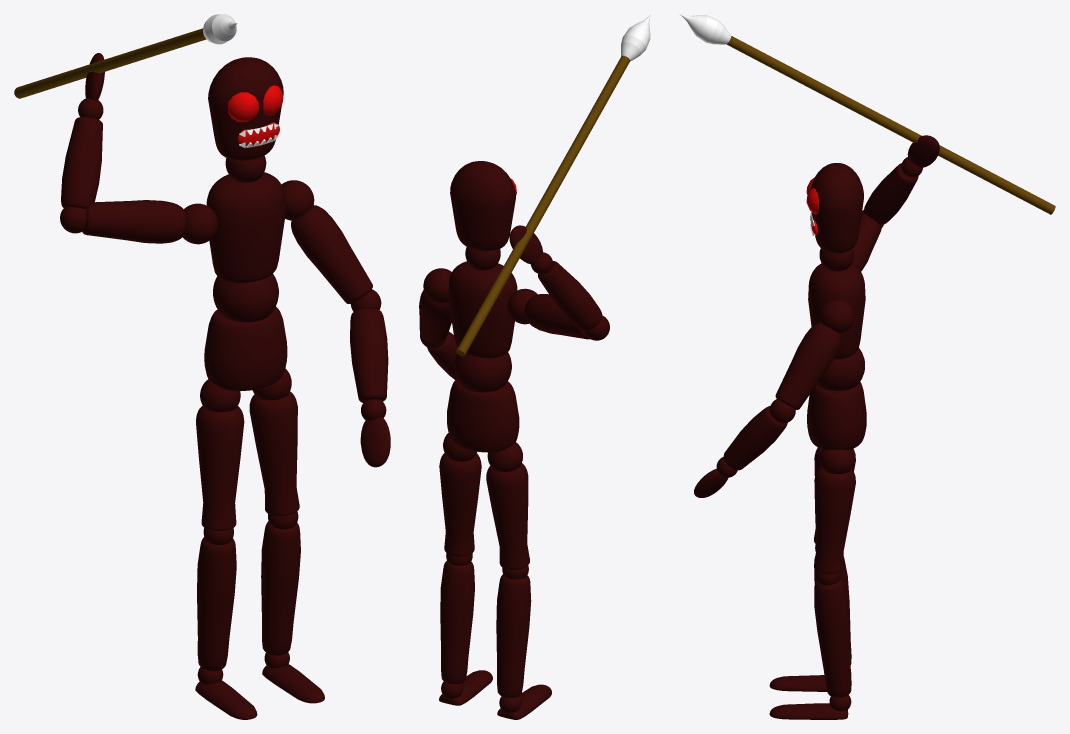
Rendered from orc.fbx.
3 renders of one model, left to right at view 1: azimuth 30°, elevation 25°; view 2: azimuth 150°, elevation 25°; view 3: azimuth 270°, elevation 25°, orthographic. The views are drawn at different scales.
Visible parts, largest first — view 1: Upper_Body, Pelvis, Right_Thigh, LeftThigh, Head, Right_Shin, LeftShin, LeftUpper_Arm, Right_Upper_Arm, LeftLower_Arm, Right_Lower_Arm, Joint (+12 smaller); view 2: Head, Upper_Body, Pelvis, LeftShin, Right_Shin, Cylinder, Right_Thigh, LeftThigh, Right_Lower_Arm, Joint, Right_Upper_Arm, LeftUpper_Arm (+10 smaller); view 3: Head, Cylinder, LeftThigh, LeftShin, Pelvis, Upper_Body, LeftUpper_Arm, LeftLower_Arm, Right_Lower_Arm, Joint, LeftFoot, Lathe (+7 smaller).
Boxes of the visible parts, x1,y1,x2,y2 form: Upper_Body: [206, 172, 285, 283]; Pelvis: [204, 306, 287, 390]; Right_Thigh: [196, 405, 244, 530]; LeftThigh: [249, 391, 299, 516]; Head: [208, 57, 283, 160]; Right_Shin: [197, 537, 236, 671]; LeftShin: [261, 521, 300, 655]; LeftUpper_Arm: [291, 205, 372, 303]; Right_Upper_Arm: [82, 200, 185, 243]; LeftLower_Arm: [350, 308, 388, 402]; Right_Lower_Arm: [61, 117, 102, 209]; Joint: [213, 274, 278, 322]; Head: [450, 161, 515, 251]; Upper_Body: [448, 261, 517, 358]; Pelvis: [447, 379, 519, 452]; LeftShin: [440, 561, 474, 684]; Right_Shin: [496, 574, 531, 697]; Cylinder: [456, 55, 630, 356]; Right_Thigh: [486, 463, 529, 569]; LeftThigh: [439, 453, 481, 556]; Right_Lower_Arm: [538, 261, 602, 330]; Joint: [454, 352, 511, 392]; Right_Upper_Arm: [524, 294, 589, 339]; LeftUpper_Arm: [419, 290, 451, 343]; Head: [810, 163, 863, 253]; Cylinder: [726, 36, 1055, 214]; LeftThigh: [814, 467, 855, 574]; LeftShin: [814, 579, 851, 697]; Pelvis: [807, 381, 866, 449]; Upper_Body: [808, 263, 865, 359]; LeftUpper_Arm: [775, 322, 841, 409]; LeftLower_Arm: [723, 405, 787, 470]; Right_Lower_Arm: [864, 163, 918, 225]; Joint: [816, 348, 864, 390]; LeftFoot: [769, 703, 848, 719]; Lathe: [679, 14, 731, 44].
Bounding box in the file's own units: 80.31 × 217 × 115.
